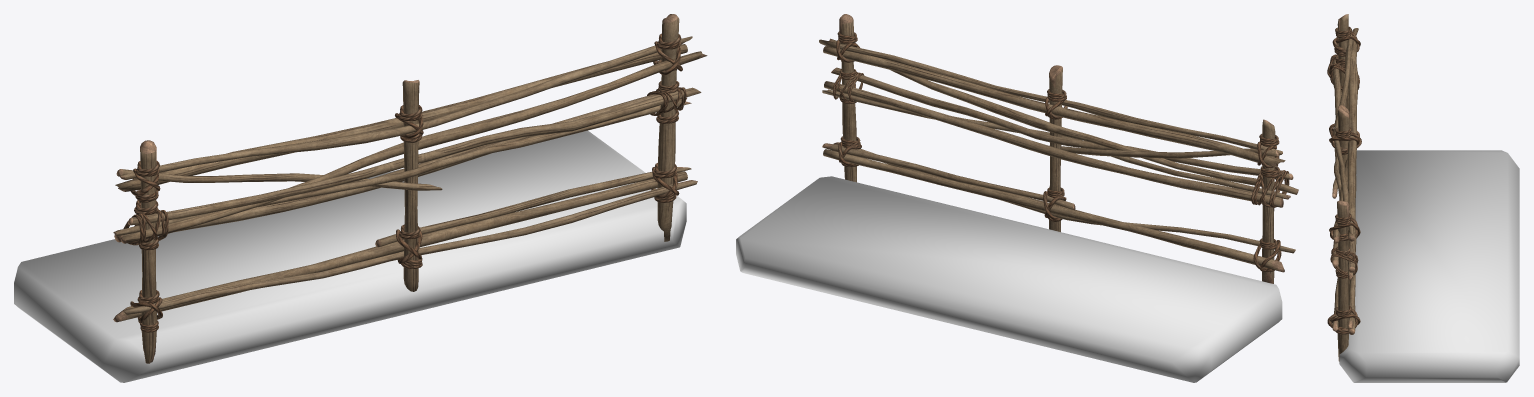
Rendered from SM_Fencing_C.fbx.
3 renders of one model, left to right at view 1: azimuth 30°, elevation 25°; view 2: azimuth 150°, elevation 25°; view 3: azimuth 270°, elevation 25°, orthographic. The views are drawn at different scales.
Parts seen in each view (by area): view 1: SM_Fencing_C_ConvexHulls, SM_Fencing_C; view 2: SM_Fencing_C_ConvexHulls, SM_Fencing_C; view 3: SM_Fencing_C_ConvexHulls, SM_Fencing_C.
Part boxes in pixels (left/top/right/bottom): SM_Fencing_C_ConvexHulls: left=14, top=130, right=686, bottom=382; SM_Fencing_C: left=113, top=14, right=707, bottom=363; SM_Fencing_C_ConvexHulls: left=736, top=176, right=1282, bottom=382; SM_Fencing_C: left=819, top=14, right=1298, bottom=283; SM_Fencing_C_ConvexHulls: left=1339, top=150, right=1519, bottom=382; SM_Fencing_C: left=1327, top=14, right=1361, bottom=361.
Size of the model in its own units: 3.07 by 1.21 by 1.19.
